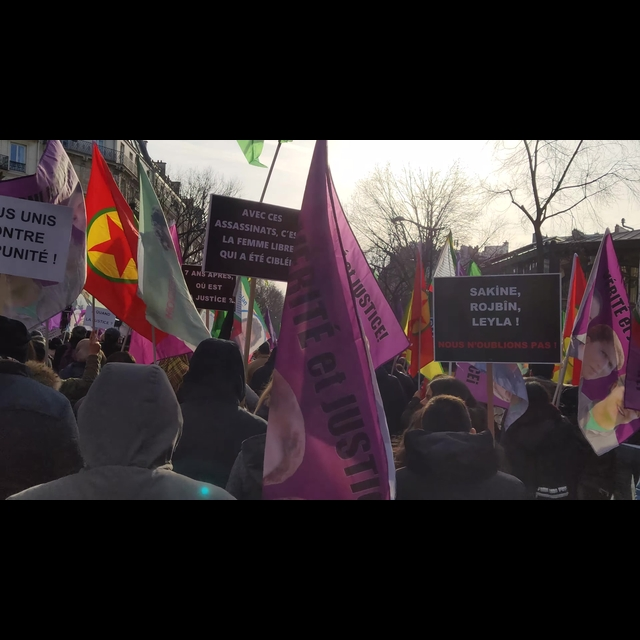PKK: (76, 143, 169, 348)
